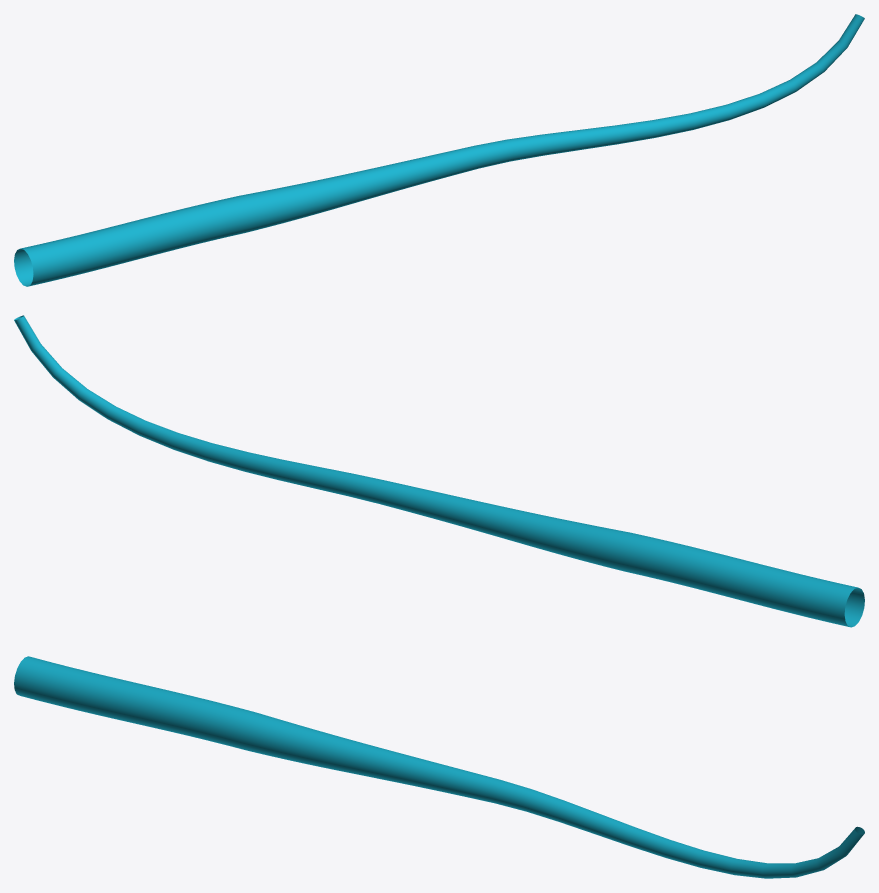
3 renders of one model, top to bottom at view 1: azimuth 30°, elevation 25°; view 2: azimuth 150°, elevation 25°; view 3: azimuth 330°, elevation 25°, orthographic. The views are drawn at different scales.
Parts seen in each view (by area): view 1: BezierCurve.002; view 2: BezierCurve.002; view 3: BezierCurve.002.
Part boxes in pixels (box(x1,y1,x2,y2)): BezierCurve.002: box(14, 14, 864, 286); BezierCurve.002: box(14, 315, 864, 627); BezierCurve.002: box(14, 656, 864, 878).
Size of the model in its own units: 7 by 0.6912 by 0.4464.
